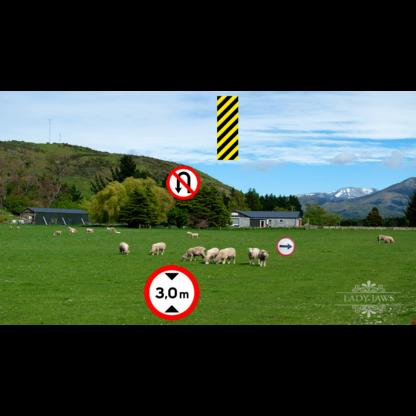O-MP: (217, 96, 238, 160)
R-15: (144, 265, 200, 320)
R-24a: (276, 237, 295, 256)
R-5a: (166, 166, 200, 199)
